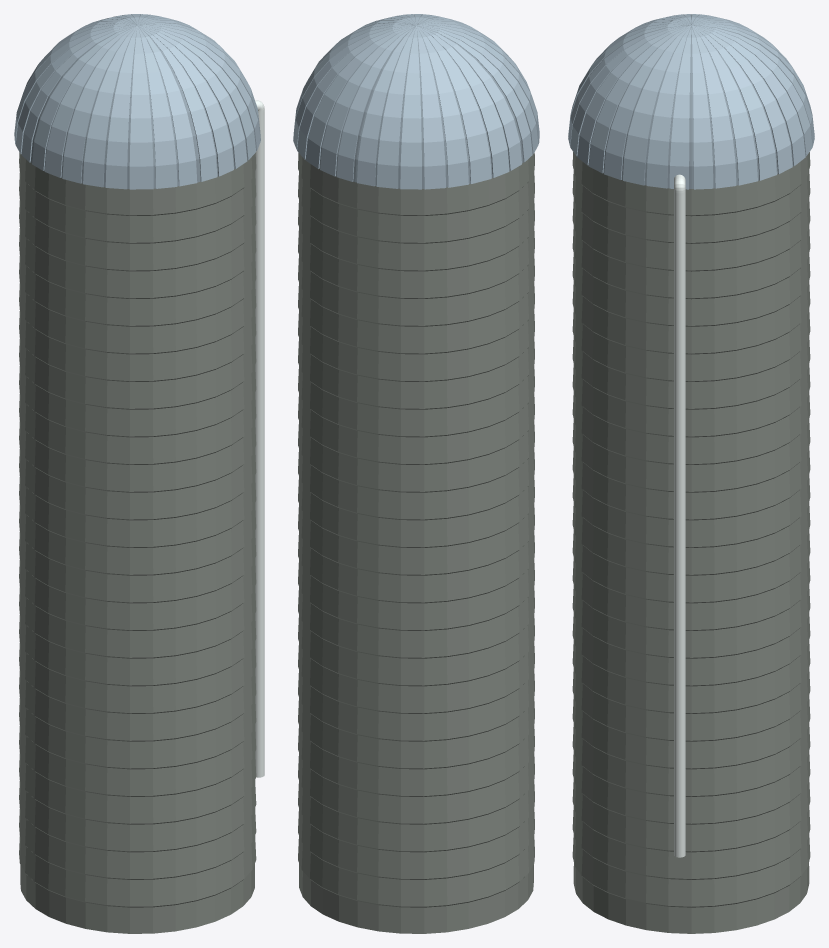
The model's file is Farm Silo.glb.
3 views of the same model, side by side, from view 1: azimuth 30°, elevation 25°; view 2: azimuth 150°, elevation 25°; view 3: azimuth 270°, elevation 25° (orthographic).
Parts seen in each view (by area): view 1: Farm Silo, Farm Silo Lid, Cylinder.001; view 2: Farm Silo, Farm Silo Lid; view 3: Farm Silo, Farm Silo Lid, Cylinder.001.
Part boxes in pixels (x1,y1,x2,y2): Farm Silo: (19, 152, 256, 933); Farm Silo Lid: (14, 14, 260, 189); Cylinder.001: (255, 100, 264, 777); Farm Silo: (298, 153, 534, 933); Farm Silo Lid: (293, 14, 539, 189); Farm Silo: (572, 152, 810, 933); Farm Silo Lid: (568, 14, 814, 189); Cylinder.001: (674, 174, 685, 857).
Bounding box in the file's own units: 4.46 × 16.1 × 4.19.
